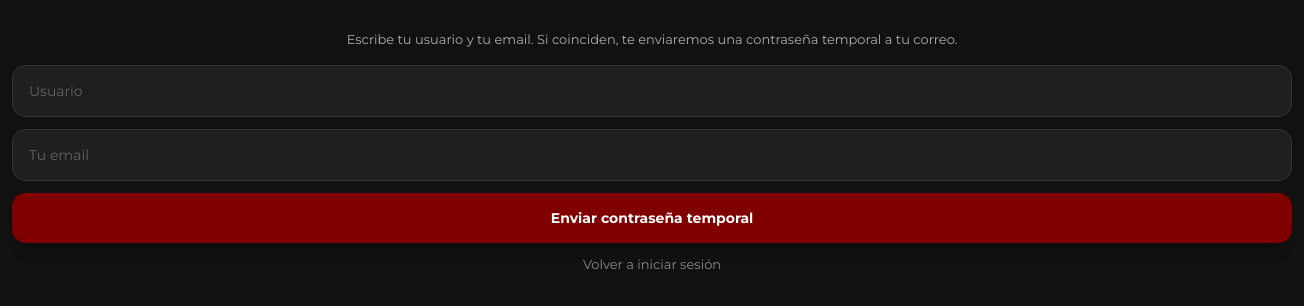
Test: ForgotPasswordForm › rechaza un email mal formado
Type "nadine" into the field with placeholder "Usuario".
click(652, 91); type("nadine")  # box [12,65,1292,117]
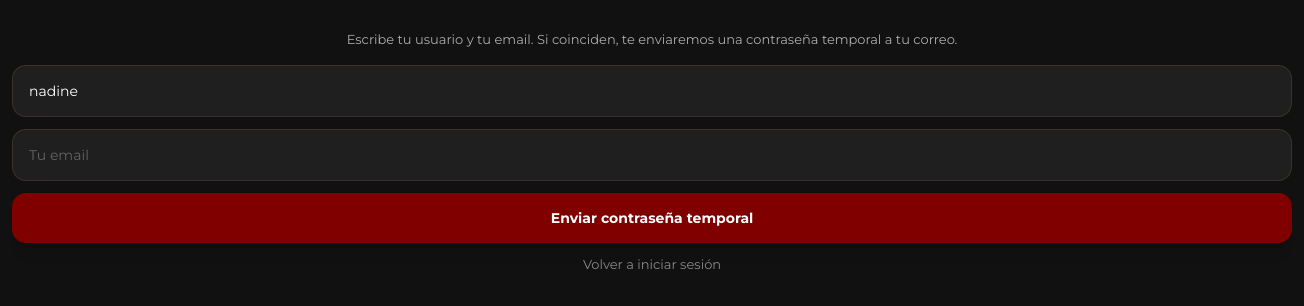
Type "no-es-email" into the field with placeholder "Tu email".
click(652, 155); type("no-es-email")  # box [12,129,1292,181]
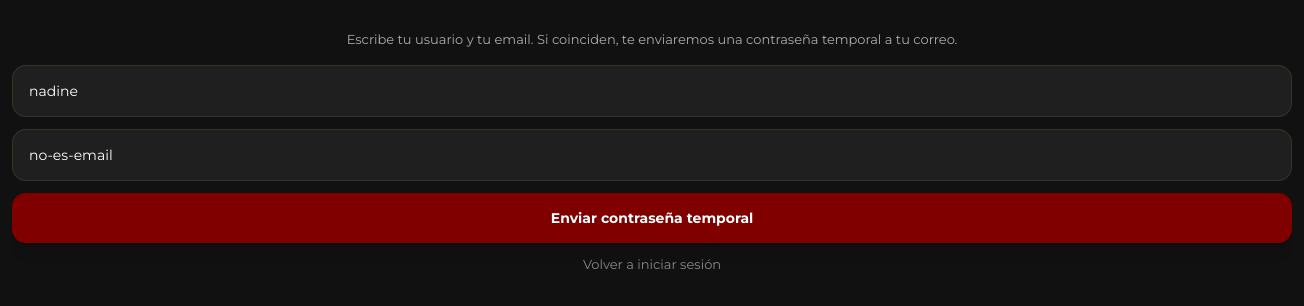
Click the button "Enviar contraseña temporal".
click(652, 218)  # box [12,193,1292,243]
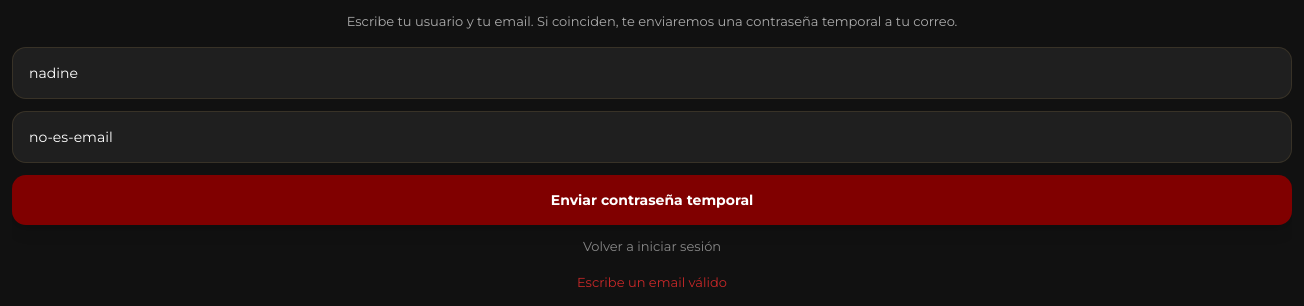
Expected: the text "Escribe un email válido" is shown, [577,274,727,290]
